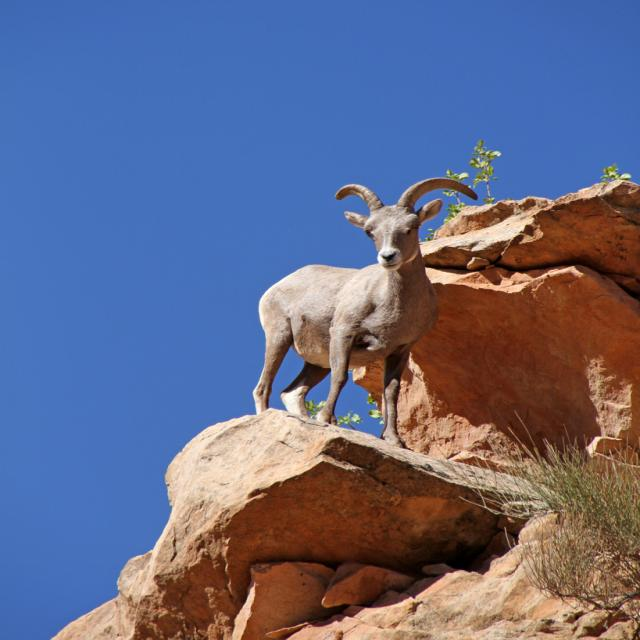Goat: (252, 176, 477, 449)
